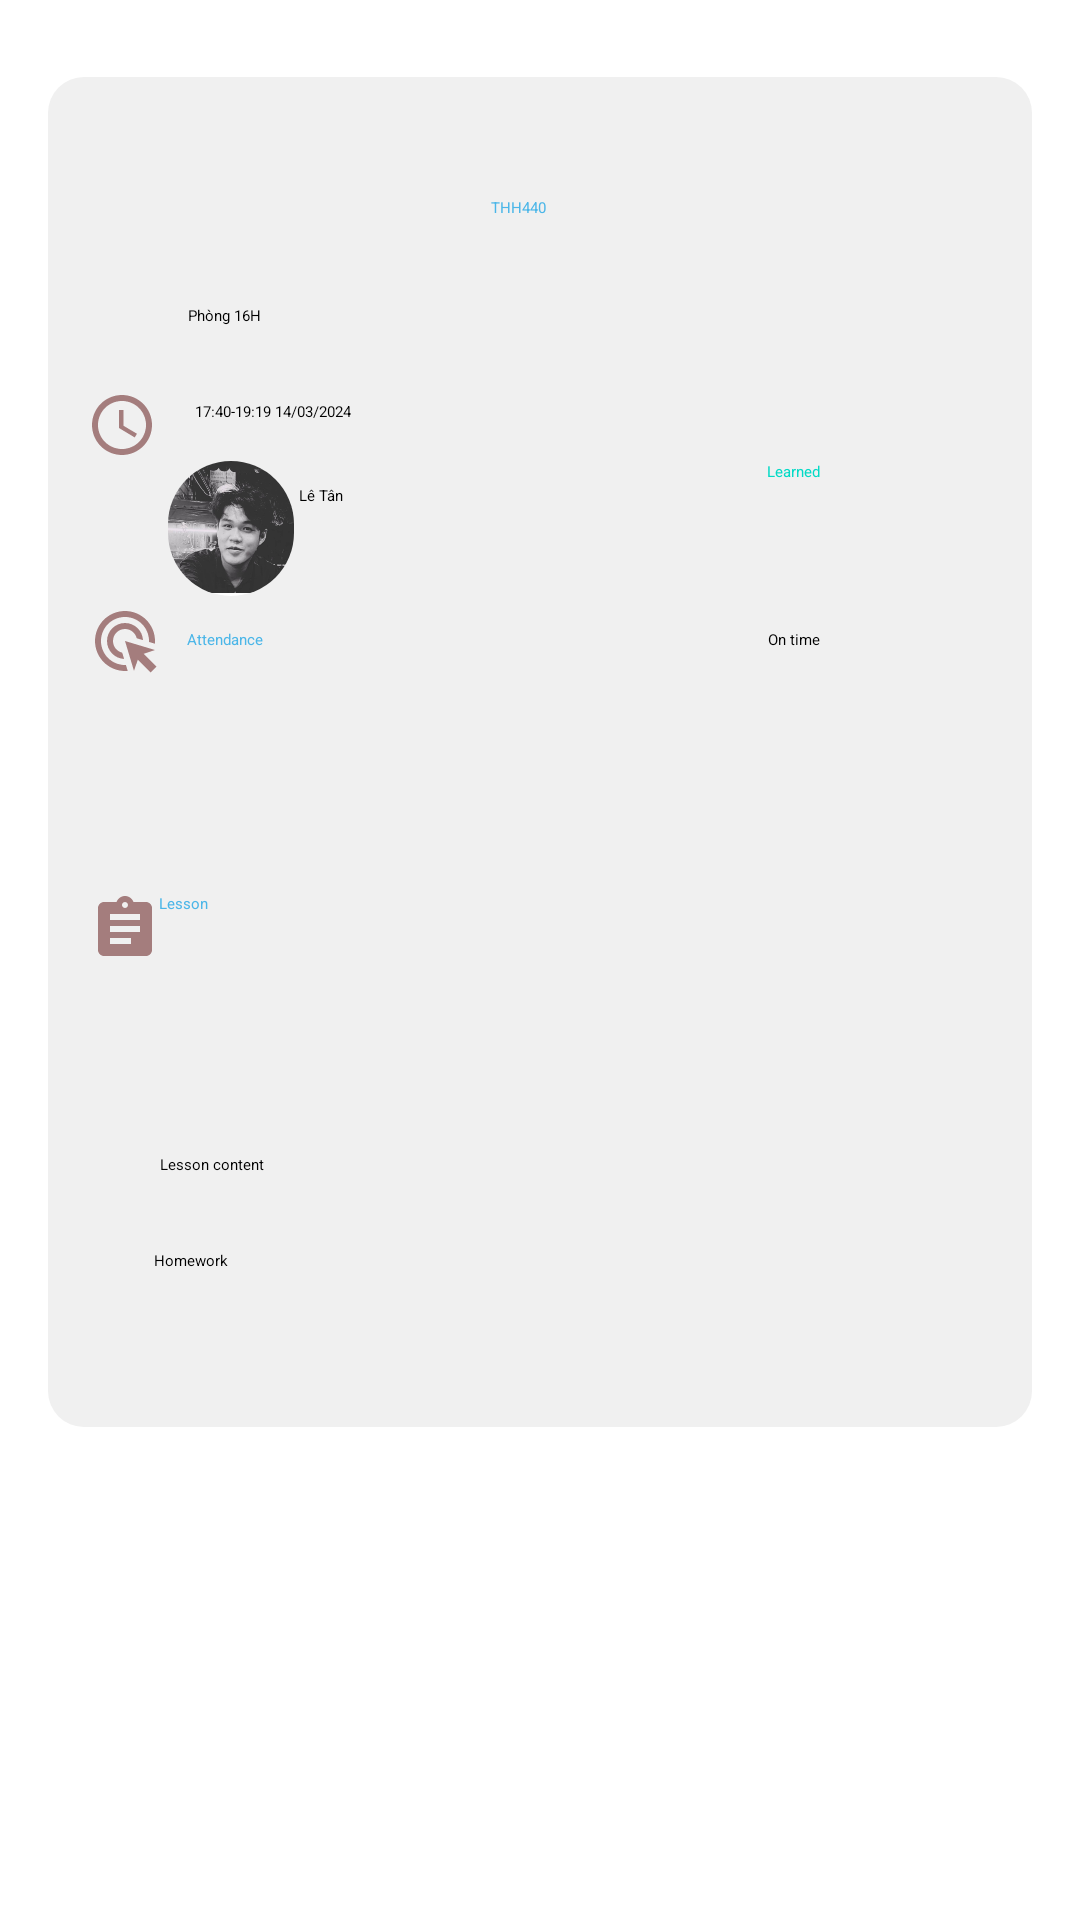

Point at icon controls on the screen. Image size 1080*1920, points as (x,y).
iconclock: (122,425)
imgavt: (231,527)
